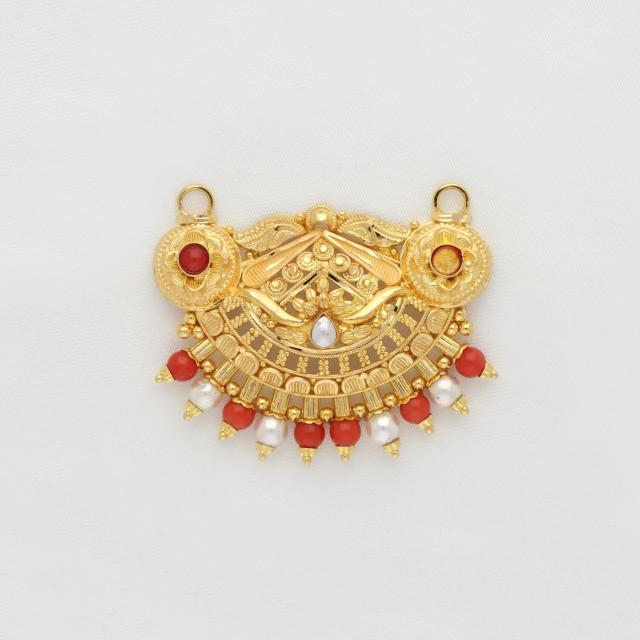missing gem: (431, 245, 462, 275)
